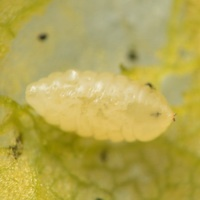insect: (26, 70, 173, 141)
